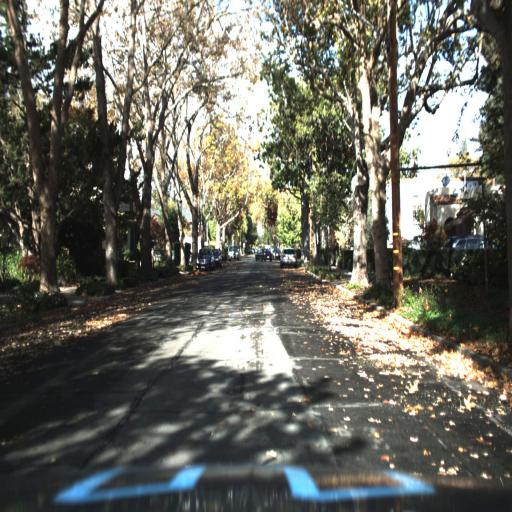car: (442, 226, 491, 255), (442, 228, 488, 256), (191, 246, 215, 273), (280, 243, 299, 269), (253, 245, 272, 261), (212, 246, 222, 270)
